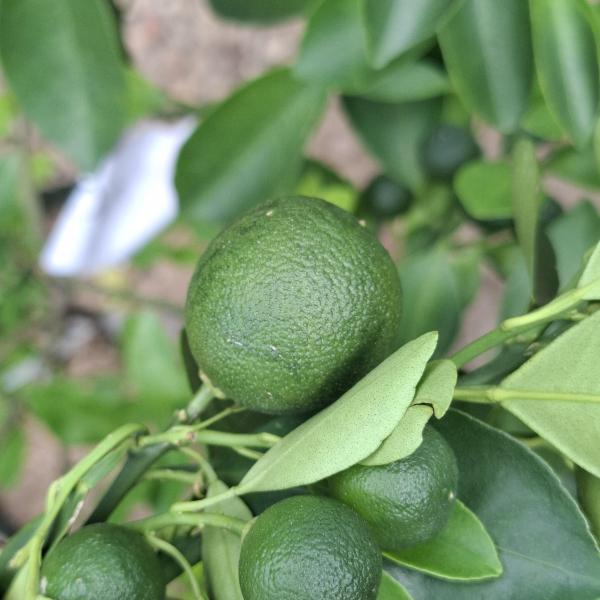Scab: (174, 173, 419, 430)
